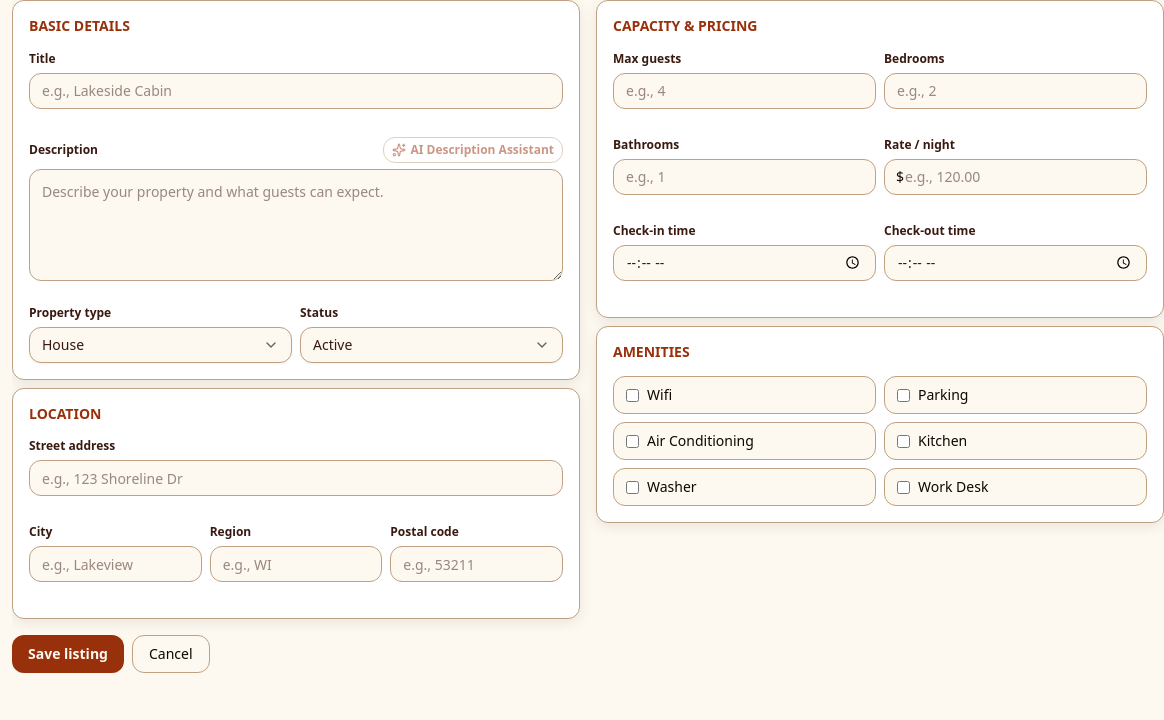
Test: Host listing components › renders form sections and exact required-field validation
The width and height of the screenshot is (1164, 720).
Expected: the heading "BASIC DETAILS" is shown, [29,16,130,35]
Expected: the heading "CAPACITY & PRICING" is shown, [613,16,757,35]
Click the button "Save listing": (68, 654) [12,635,124,673]
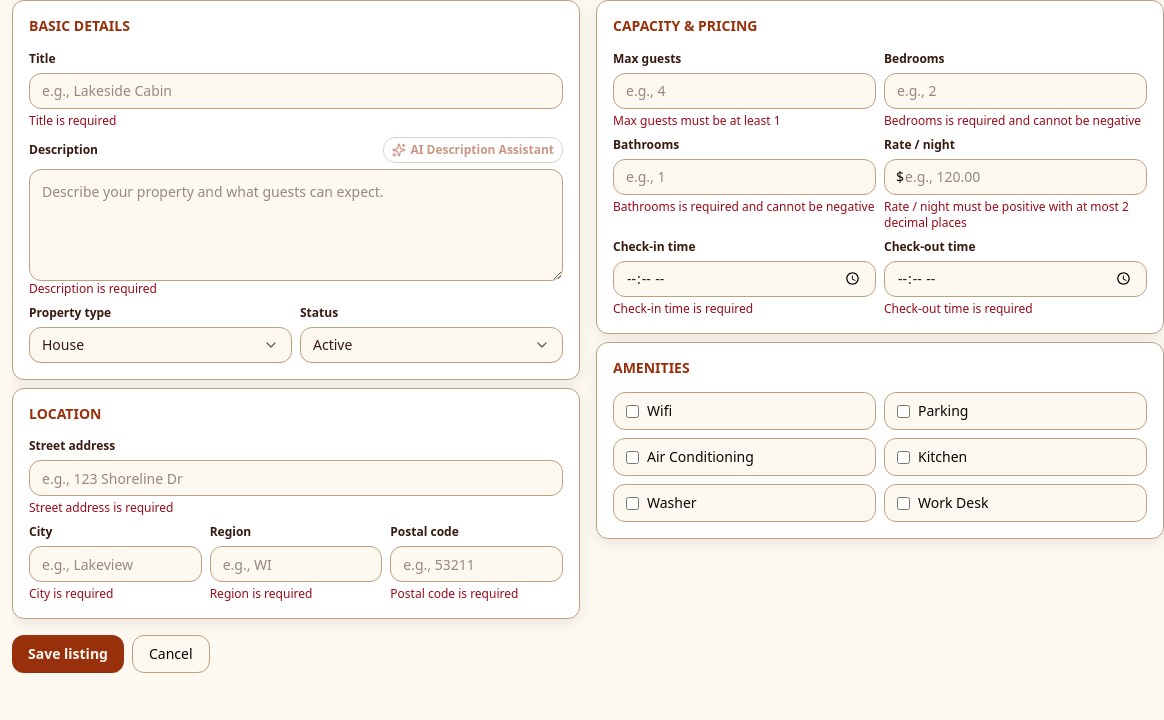
Result: the text "Title is required" is shown at [29,112,116,128]
Result: the text "Rate / night must be positive with at most 2 decimal places" is shown at [884,198,1147,230]
